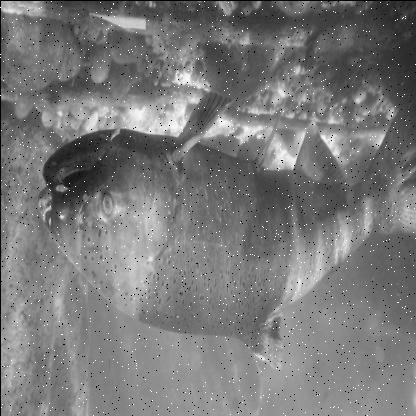fish: (38, 83, 415, 372)
